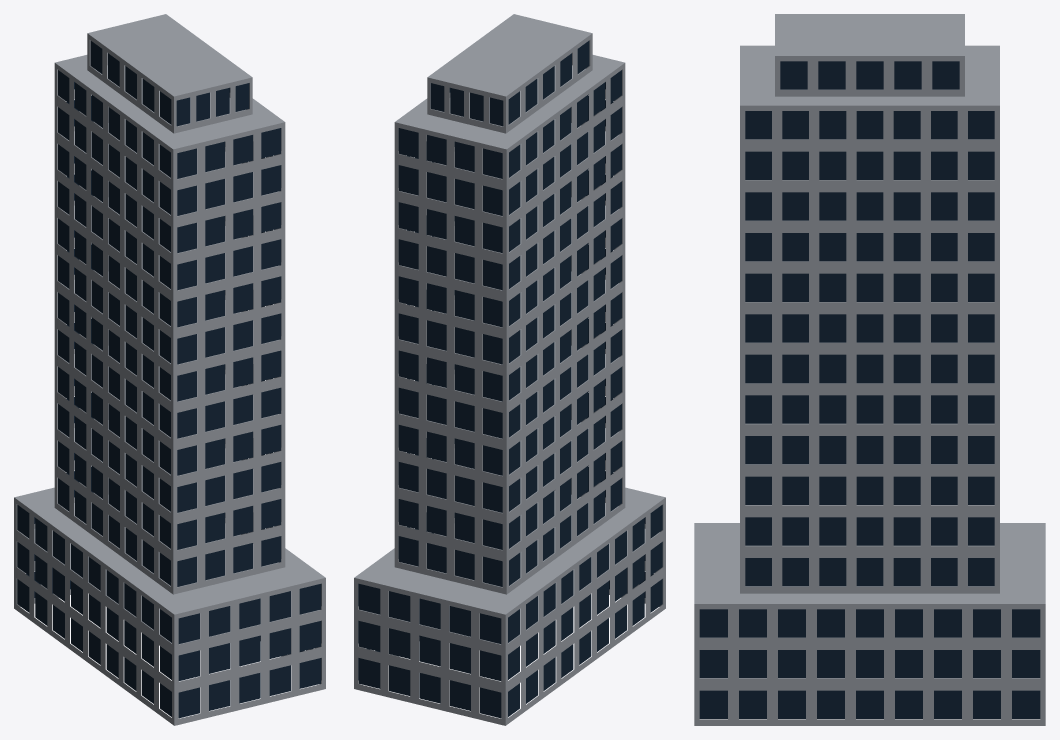
The model's file is Residential Buildings 006.obj.
3 renders of one model, left to right at view 1: azimuth 30°, elevation 25°; view 2: azimuth 150°, elevation 25°; view 3: azimuth 270°, elevation 25°, orthographic. The views are drawn at different scales.
Parts seen in each view (by area): view 1: Residential; view 2: Residential; view 3: Residential.
Boxes of the visible parts, x1=… form: Residential: x1=14, y1=14, x2=325, y2=725; Residential: x1=354, y1=14, x2=665, y2=725; Residential: x1=694, y1=14, x2=1045, y2=725.
Size of the model in its own units: 12.59 by 47.19 by 23.1.
